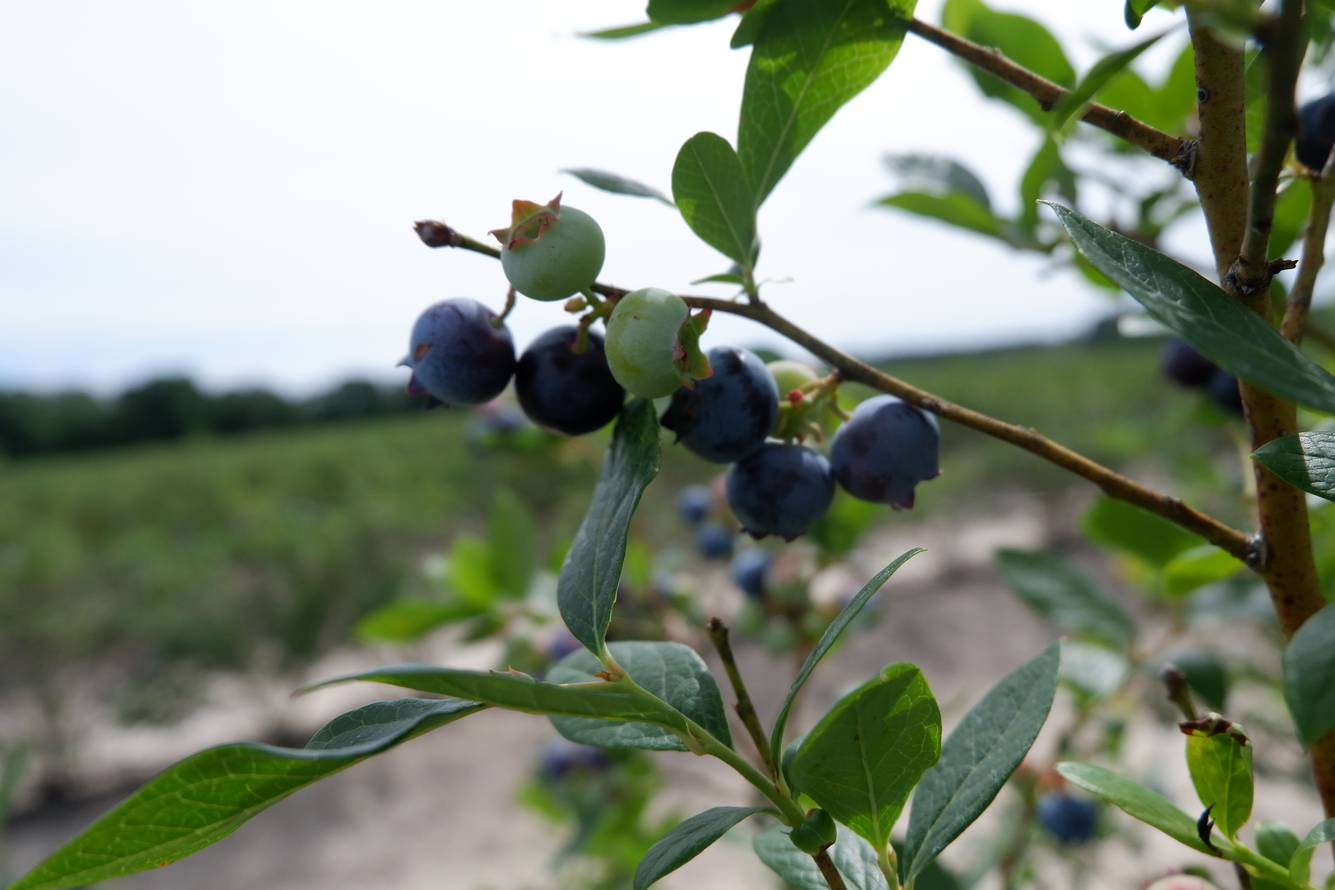Immature: (608, 291, 707, 397), (501, 200, 602, 297), (766, 358, 828, 438)
Mature: (669, 351, 778, 462), (515, 320, 623, 432), (833, 398, 939, 506), (406, 301, 515, 402), (728, 443, 834, 538)
